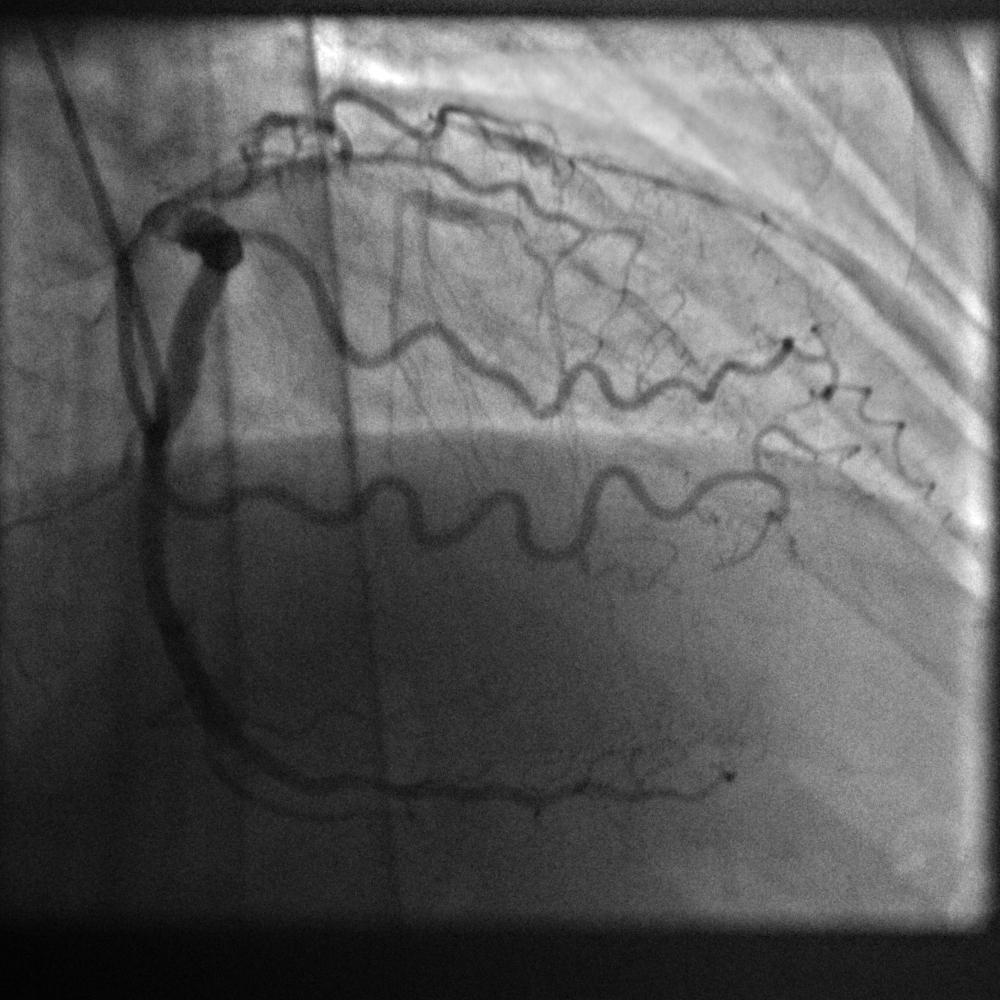Stenosis: (208, 715, 275, 770)
